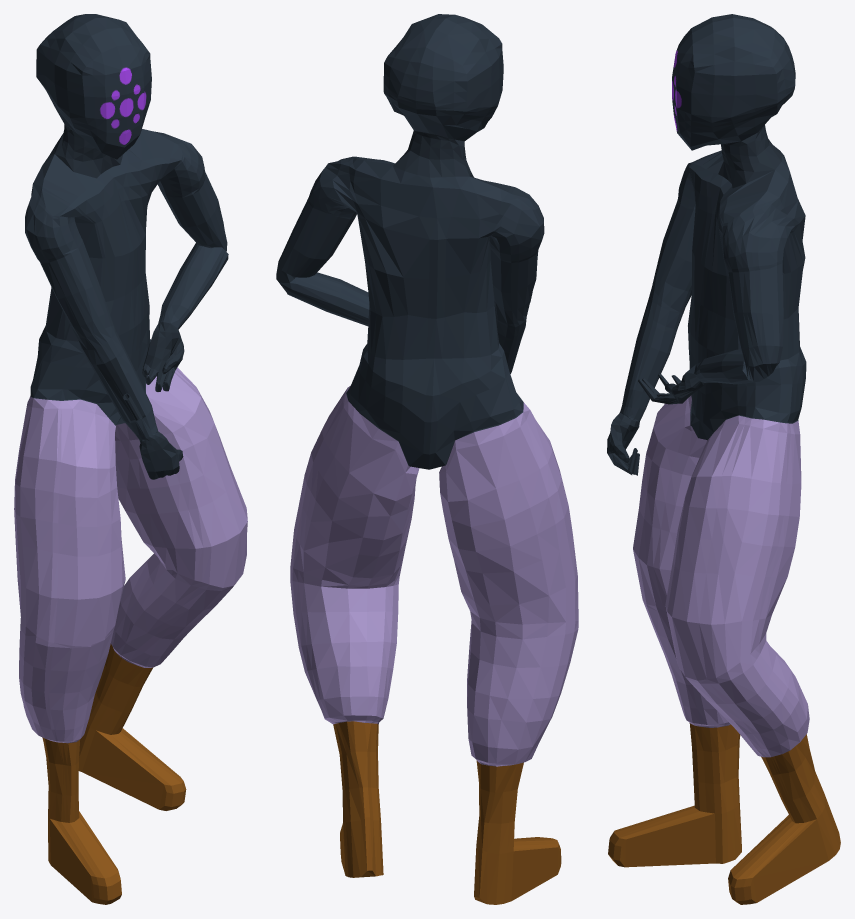
Rendered from Oracle_WL_000004.obj.
The picture shows the model from 3 angles, left to right: view 1: azimuth 30°, elevation 25°; view 2: azimuth 150°, elevation 25°; view 3: azimuth 270°, elevation 25°; orthographic projection. The views are drawn at different scales.
Parts seen in each view (by area): view 1: Cube; view 2: Cube; view 3: Cube.
Boxes of the visible parts, x1,y1,x2,y2 form: Cube: (14, 14, 247, 904); Cube: (276, 14, 578, 904); Cube: (607, 14, 840, 904).
Size of the model in its own units: 1.19 by 3.92 by 0.9603.
